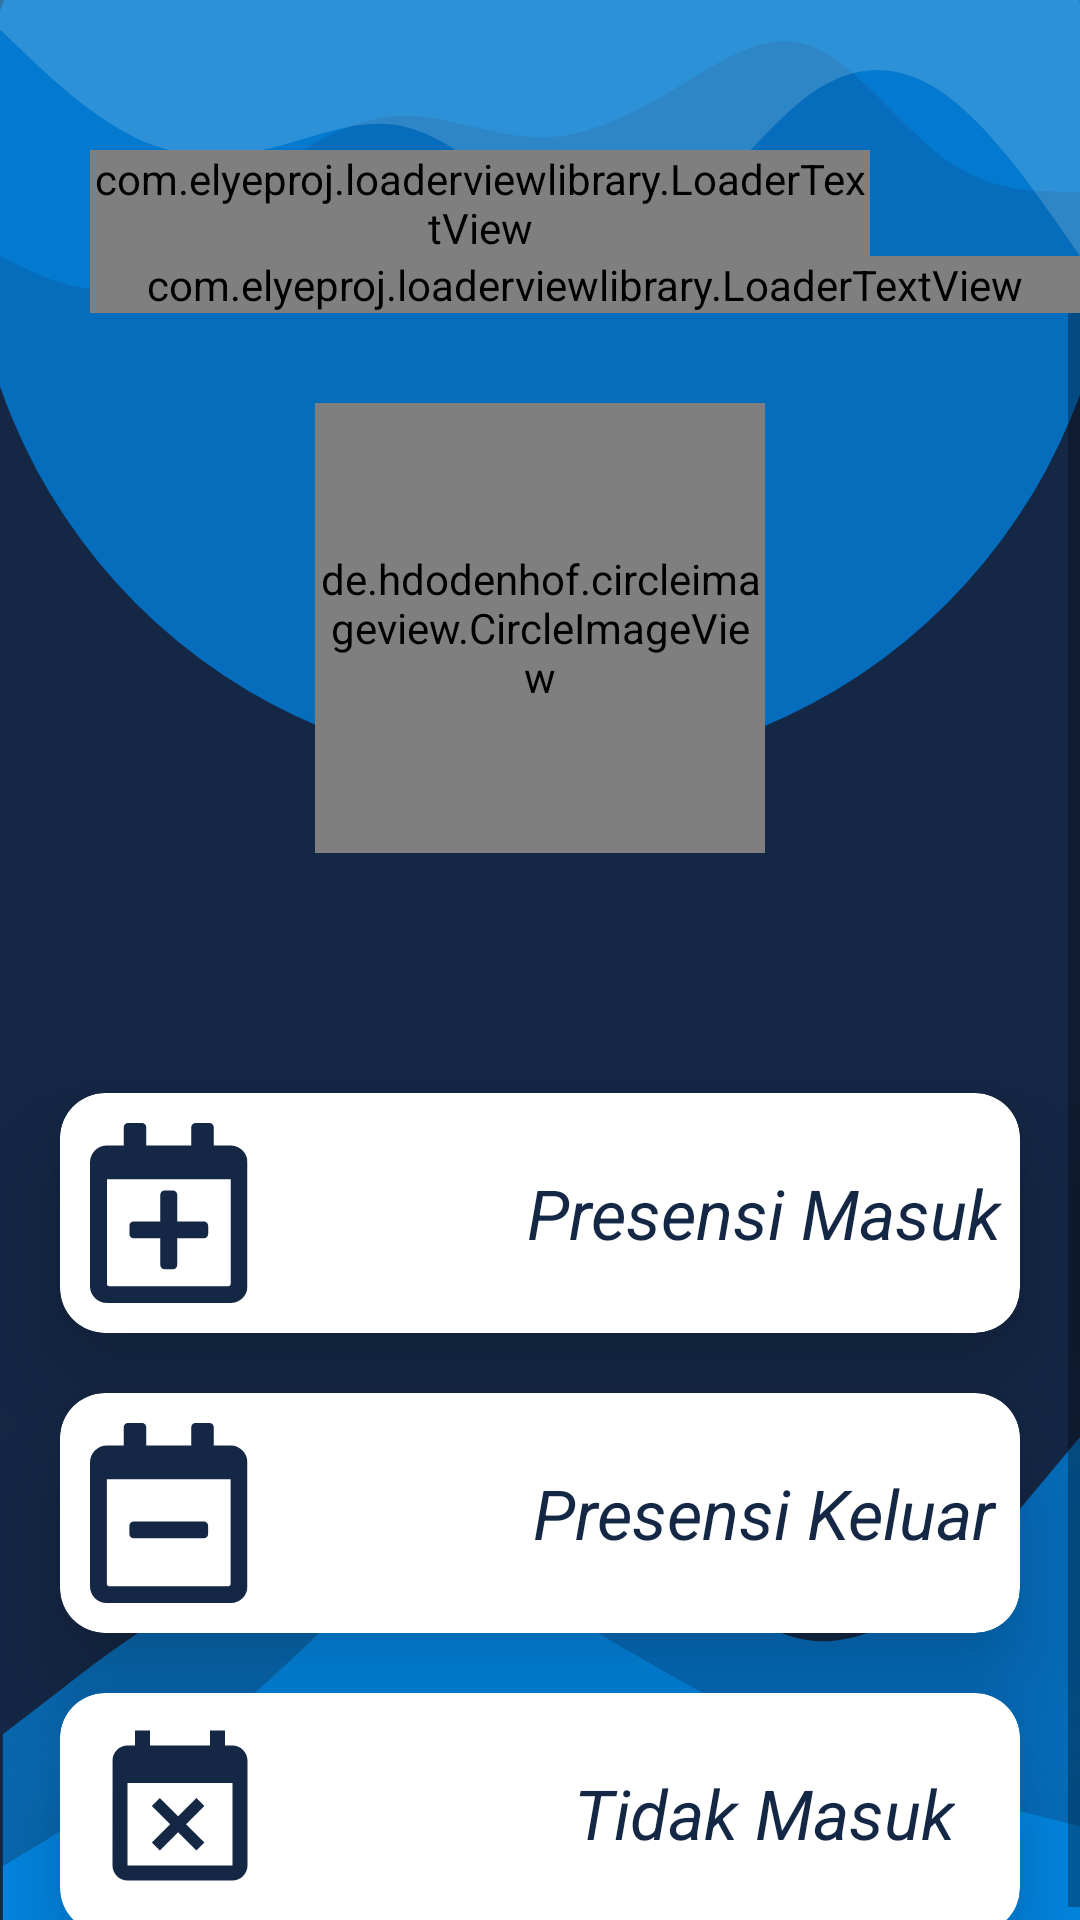

Icon bounding boxes for this 1080x1920 phone screenshot, format [x1, y1, x2, y2]:
calendar minus: [90, 1423, 248, 1603]
calendar plus: [90, 1123, 248, 1303]
event busy: [112, 1730, 248, 1881]
